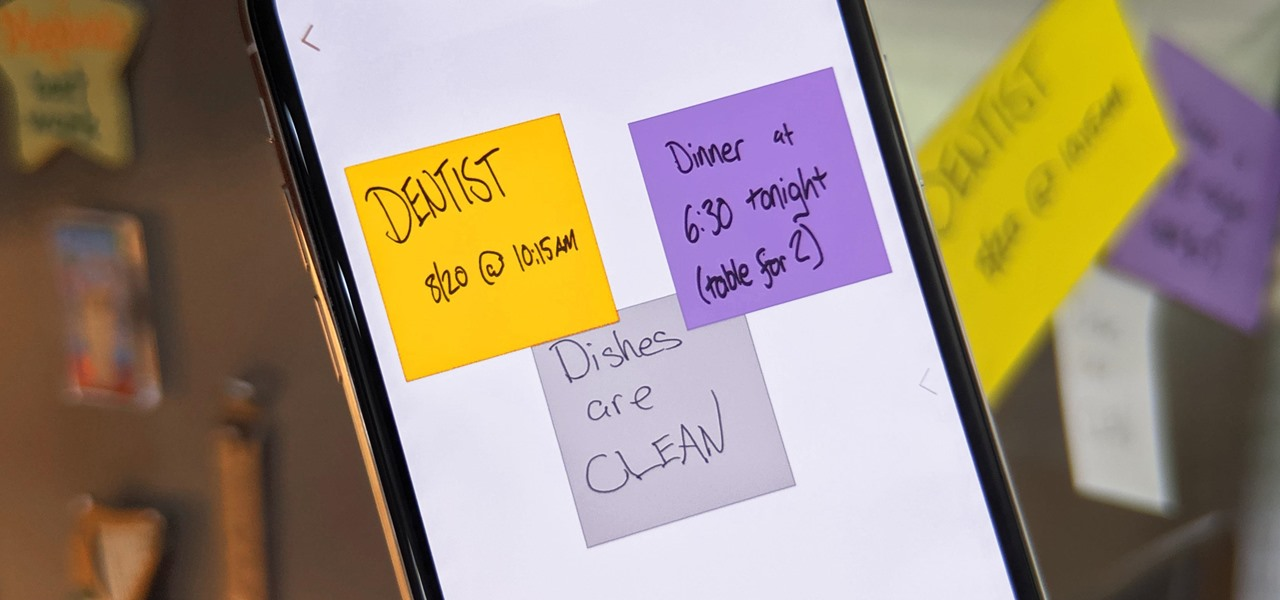Note: (347, 112, 626, 372), (531, 294, 803, 548), (631, 69, 893, 315)
